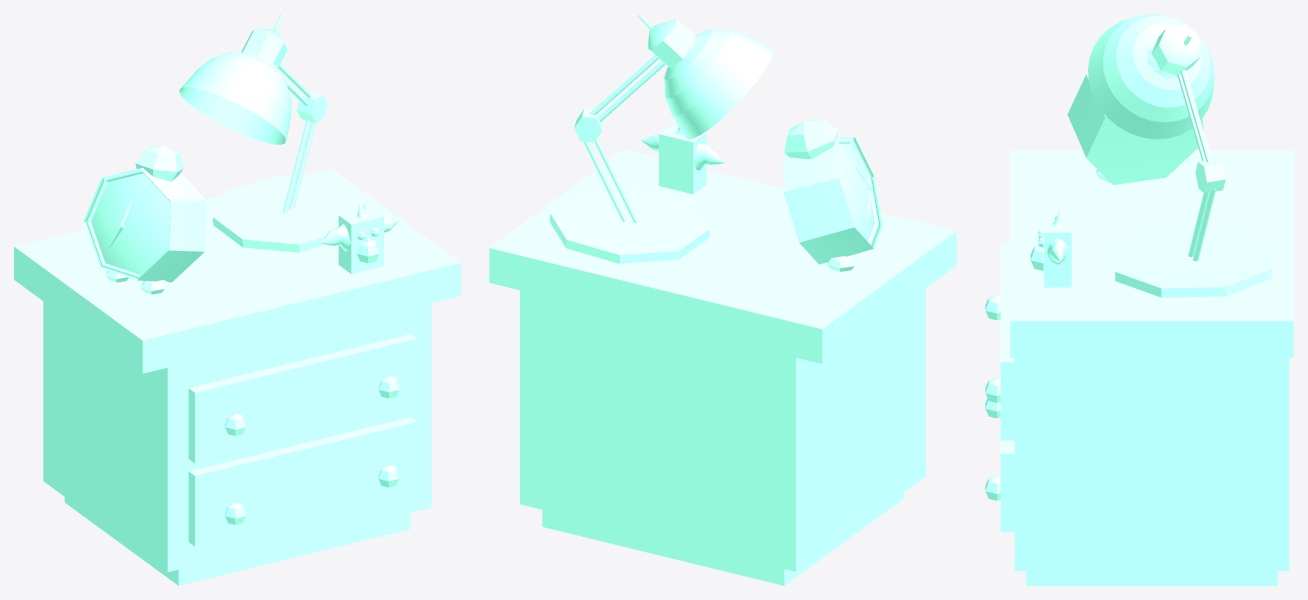
The model's file is buroo.gltf.
3 renders of one model, left to right at view 1: azimuth 30°, elevation 25°; view 2: azimuth 150°, elevation 25°; view 3: azimuth 270°, elevation 25°, orthographic. The views are drawn at different scales.
Visible parts, largest first — view 1: Mesh_0; view 2: Mesh_0; view 3: Mesh_0.
Boxes of the visible parts, left/top/right/bottom form: Mesh_0: left=14, top=14, right=460, bottom=585; Mesh_0: left=489, top=14, right=956, bottom=585; Mesh_0: left=985, top=14, right=1293, bottom=585.
Bounding box in the file's own units: 91.62 × 130 × 69.7.
